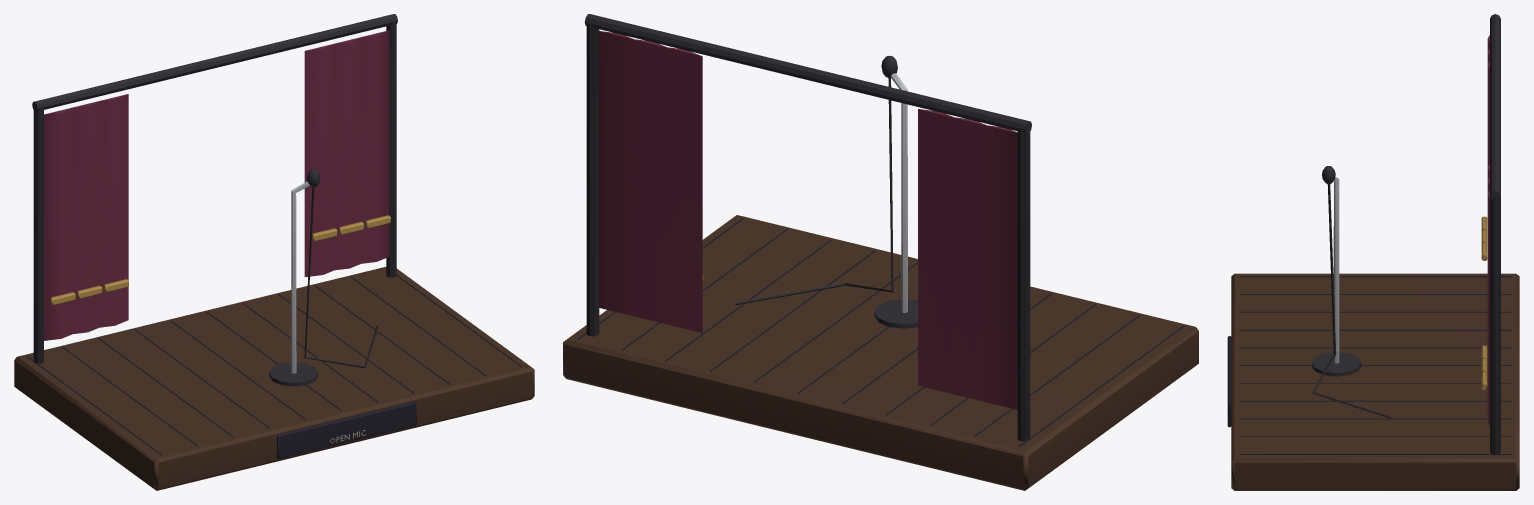
The model's file is stage_small.glb.
The picture shows the model from 3 angles, left to right: view 1: azimuth 30°, elevation 25°; view 2: azimuth 150°, elevation 25°; view 3: azimuth 270°, elevation 25°; orthographic projection. The views are drawn at different scales.
Parts seen in each view (by area): view 1: stage_small; view 2: stage_small; view 3: stage_small.
Boxes of the visible parts, <box> form: stage_small: <box>14,14,534,490</box>; stage_small: <box>563,14,1198,490</box>; stage_small: <box>1227,14,1519,490</box>.
Bounding box in the file's own units: 2.85 × 2.1 × 1.88.
